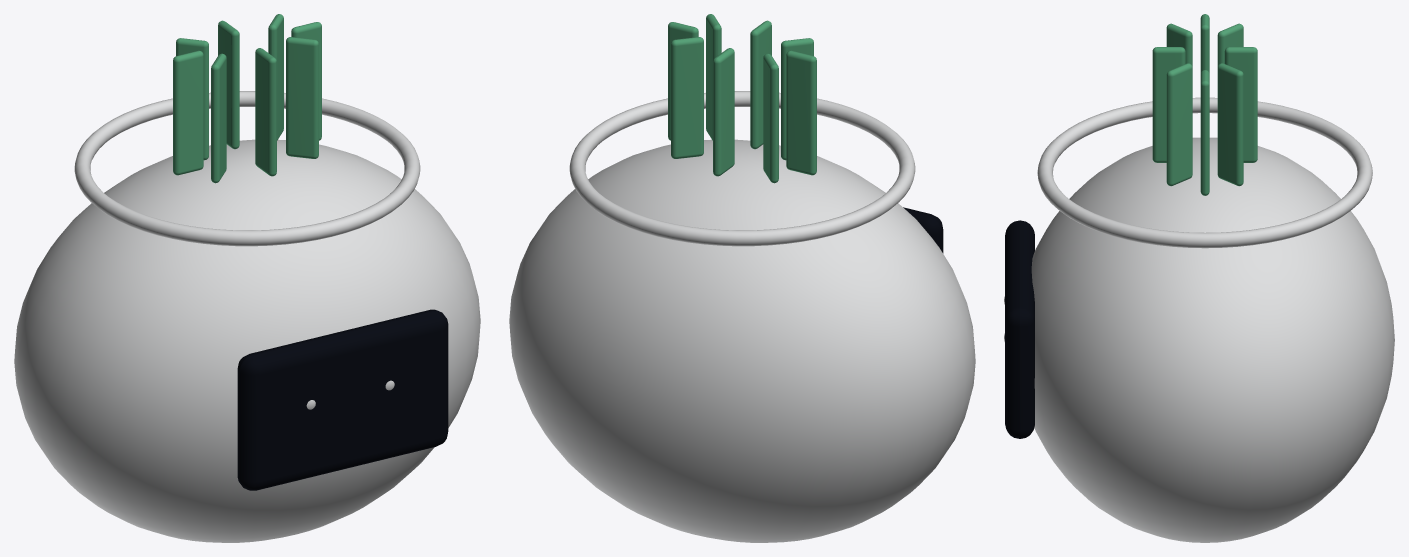
The model's file is p2s_video_so_ong_ivy_planter.glb.
The picture shows the model from 3 angles, left to right: view 1: azimuth 30°, elevation 25°; view 2: azimuth 150°, elevation 25°; view 3: azimuth 270°, elevation 25°; orthographic projection. The views are drawn at different scales.
Visible parts, largest first — view 1: rounded_ai_planter, black_face_display, planter_rim, ivy_leaf.007, ivy_leaf.004, ivy_leaf.006, ivy_leaf.002, ivy_leaf.005, ivy_leaf.001, ivy_leaf.003, ivy_leaf; view 2: rounded_ai_planter, planter_rim, ivy_leaf.001, ivy_leaf.004, ivy_leaf.002, ivy_leaf.006, ivy_leaf.003, ivy_leaf.007, ivy_leaf.005, ivy_leaf, black_face_display; view 3: rounded_ai_planter, planter_rim, black_face_display, ivy_leaf.007, ivy_leaf.001, ivy_leaf.006, ivy_leaf.002, ivy_leaf, ivy_leaf.005, ivy_leaf.003, ivy_leaf.004.
Boxes of the visible parts, x1=… form: rounded_ai_planter: x1=14, y1=139, x2=480, y2=542; black_face_display: x1=237, y1=309, x2=448, y2=490; planter_rim: x1=74, y1=91, x2=420, y2=246; ivy_leaf.007: x1=286, y1=37, x2=318, y2=158; ivy_leaf.004: x1=173, y1=50, x2=203, y2=175; ivy_leaf.006: x1=255, y1=48, x2=276, y2=176; ivy_leaf.002: x1=218, y1=20, x2=239, y2=149; ivy_leaf.005: x1=211, y1=53, x2=226, y2=183; ivy_leaf.001: x1=268, y1=14, x2=283, y2=140; ivy_leaf.003: x1=176, y1=38, x2=208, y2=160; ivy_leaf: x1=291, y1=22, x2=321, y2=140; rounded_ai_planter: x1=509, y1=139, x2=975, y2=542; planter_rim: x1=569, y1=91, x2=915, y2=246; ivy_leaf.001: x1=671, y1=37, x2=703, y2=158; ivy_leaf.004: x1=786, y1=50, x2=816, y2=175; ivy_leaf.002: x1=713, y1=48, x2=734, y2=176; ivy_leaf.006: x1=750, y1=20, x2=771, y2=149; ivy_leaf.003: x1=763, y1=53, x2=778, y2=183; ivy_leaf.007: x1=706, y1=14, x2=721, y2=140; ivy_leaf.005: x1=781, y1=38, x2=813, y2=160; ivy_leaf: x1=668, y1=22, x2=698, y2=140; black_face_display: x1=903, y1=207, x2=943, y2=253; rounded_ai_planter: x1=1031, y1=137, x2=1394, y2=542; planter_rim: x1=1037, y1=97, x2=1372, y2=248; black_face_display: x1=1005, y1=220, x2=1034, y2=438; ivy_leaf.007: x1=1166, y1=63, x2=1192, y2=186; ivy_leaf.001: x1=1217, y1=63, x2=1243, y2=186; ivy_leaf.006: x1=1152, y1=47, x2=1185, y2=162; ivy_leaf.002: x1=1224, y1=47, x2=1257, y2=162; ivy_leaf: x1=1200, y1=70, x2=1209, y2=195; ivy_leaf.005: x1=1166, y1=23, x2=1192, y2=66; ivy_leaf.003: x1=1217, y1=23, x2=1243, y2=66; ivy_leaf.004: x1=1200, y1=14, x2=1209, y2=73.
Size of the model in its own units: 0.0946 by 0.1032 by 0.0779.
